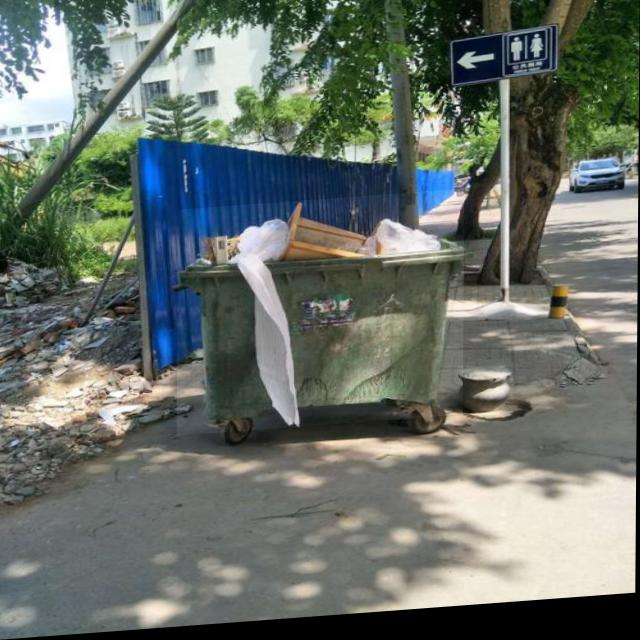overflow: (178, 196, 465, 439)
